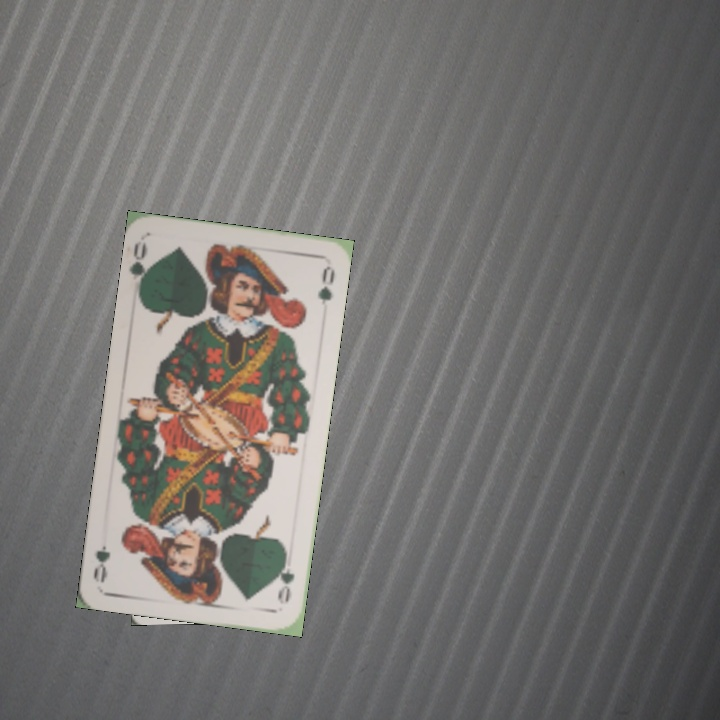GO: (126, 237, 155, 297), (273, 549, 298, 607)
